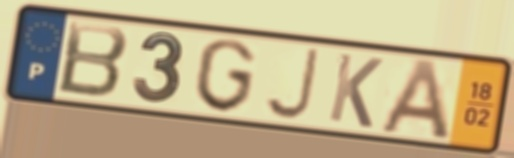3: (130, 29, 187, 107)
A: (375, 56, 454, 143)
B: (55, 18, 132, 101)
G: (192, 36, 259, 116)
J: (261, 45, 323, 121)
K: (325, 50, 386, 132)
